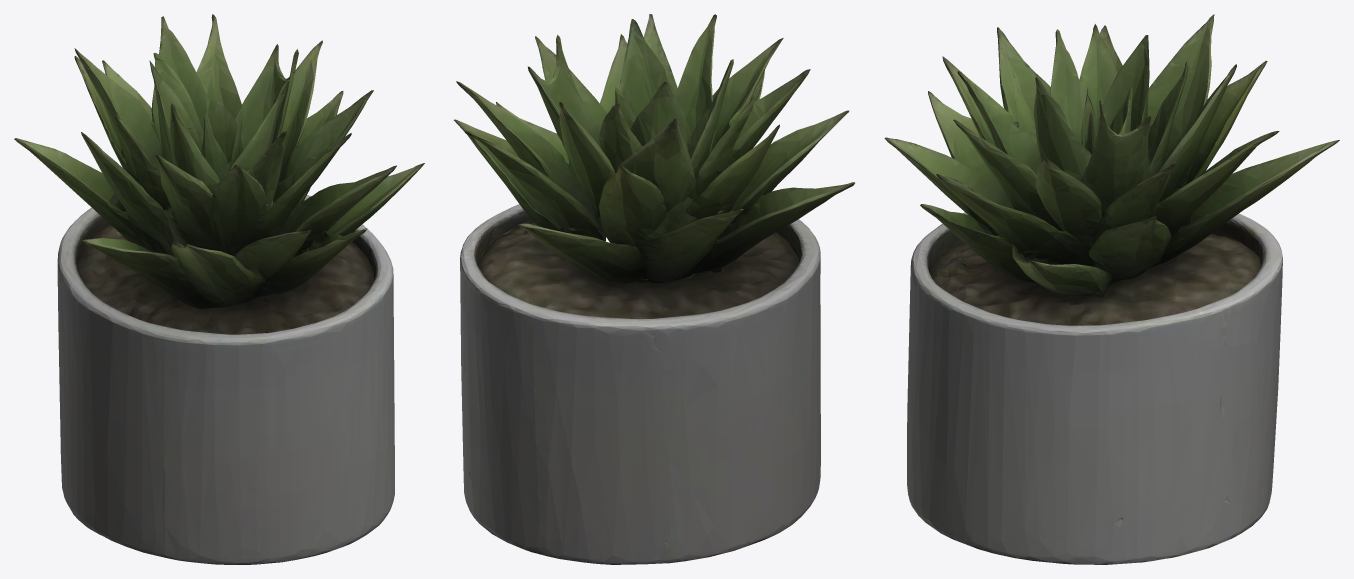
Rendered from desk_plant.glb.
3 views of the same model, side by side, from view 1: azimuth 30°, elevation 25°; view 2: azimuth 150°, elevation 25°; view 3: azimuth 270°, elevation 25° (orthographic). The views are drawn at different scales.
Parts seen in each view (by area): view 1: geometry_0; view 2: geometry_0; view 3: geometry_0.
Boxes of the visible parts, <box> form: geometry_0: <box>14,14,424,564</box>; geometry_0: <box>454,14,854,564</box>; geometry_0: <box>884,14,1339,564</box>.
Size of the model in its own units: 0.8487 by 1 by 0.9512.
Materials: 1 (1 with a texture image).
